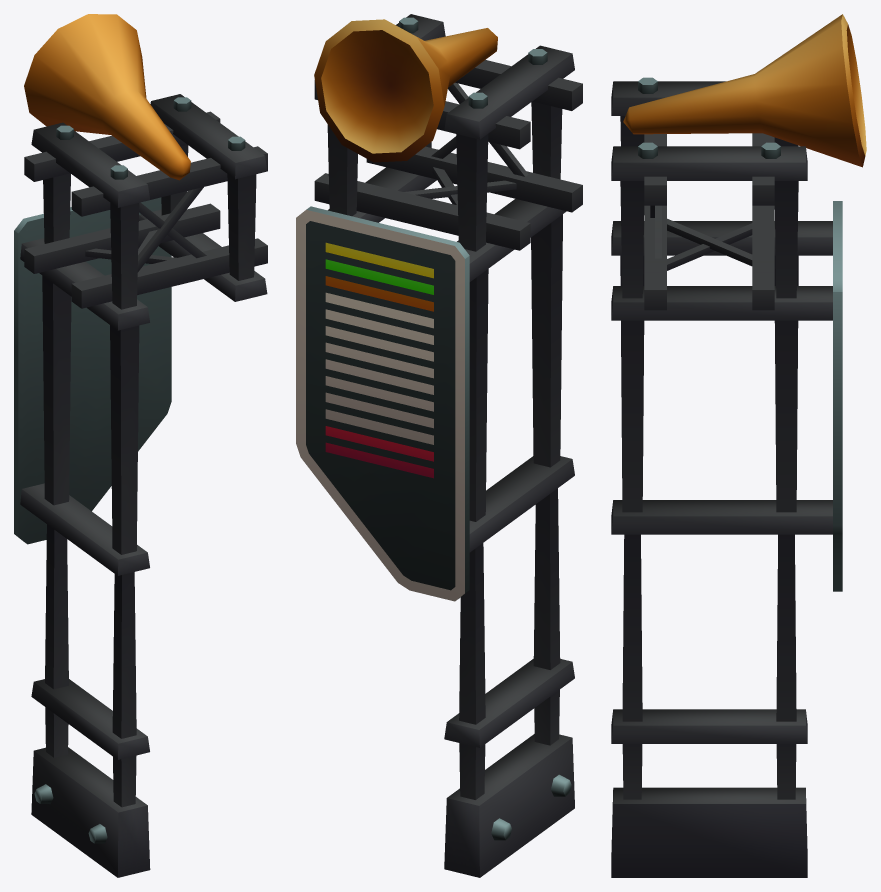
The model's file is Sign_Support_2A.fbx.
3 views of the same model, side by side, from view 1: azimuth 30°, elevation 25°; view 2: azimuth 150°, elevation 25°; view 3: azimuth 270°, elevation 25° (orthographic). The views are drawn at different scales.
Visible parts, largest first — view 1: Sign_Support_2A; view 2: Sign_Support_2A; view 3: Sign_Support_2A.
Part boxes in pixels (<box>): Sign_Support_2A: <box>14,14,267,877</box>; Sign_Support_2A: <box>296,14,582,877</box>; Sign_Support_2A: <box>611,14,866,877</box>.
Bounding box in the file's own units: 3.18 × 12.59 × 3.32.
